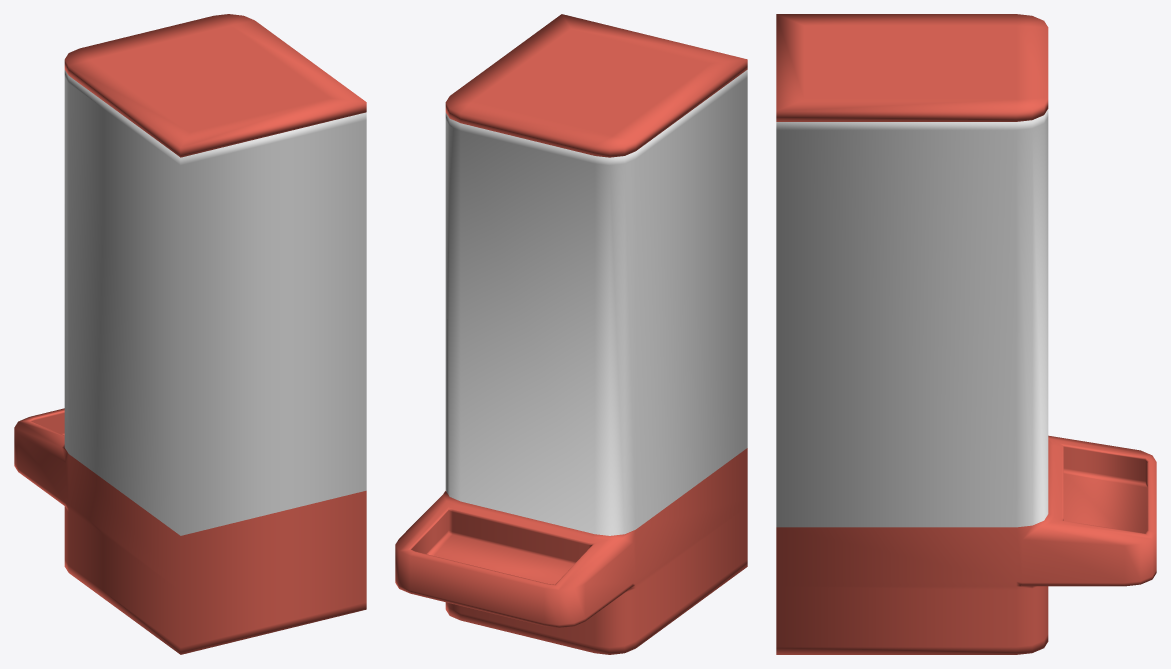
The model's file is Candy_Machine.fbx.
3 renders of one model, left to right at view 1: azimuth 30°, elevation 25°; view 2: azimuth 150°, elevation 25°; view 3: azimuth 270°, elevation 25°, orthographic. The views are drawn at different scales.
Visible parts, largest first — view 1: CandyMachine; view 2: CandyMachine; view 3: CandyMachine.
Boxes of the visible parts, x1,y1,x2,y2 form: CandyMachine: (14,14,366,654); CandyMachine: (395,14,747,654); CandyMachine: (776,14,1156,654).
Size of the model in its own units: 2.97 by 7.72 by 4.9.
